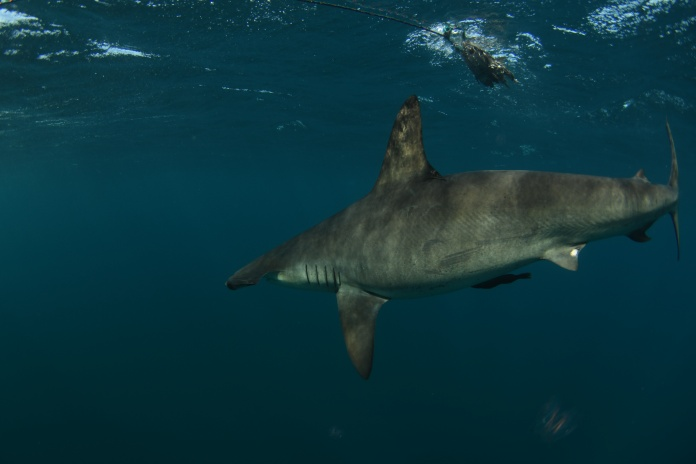Hammer: (201, 89, 696, 389)
